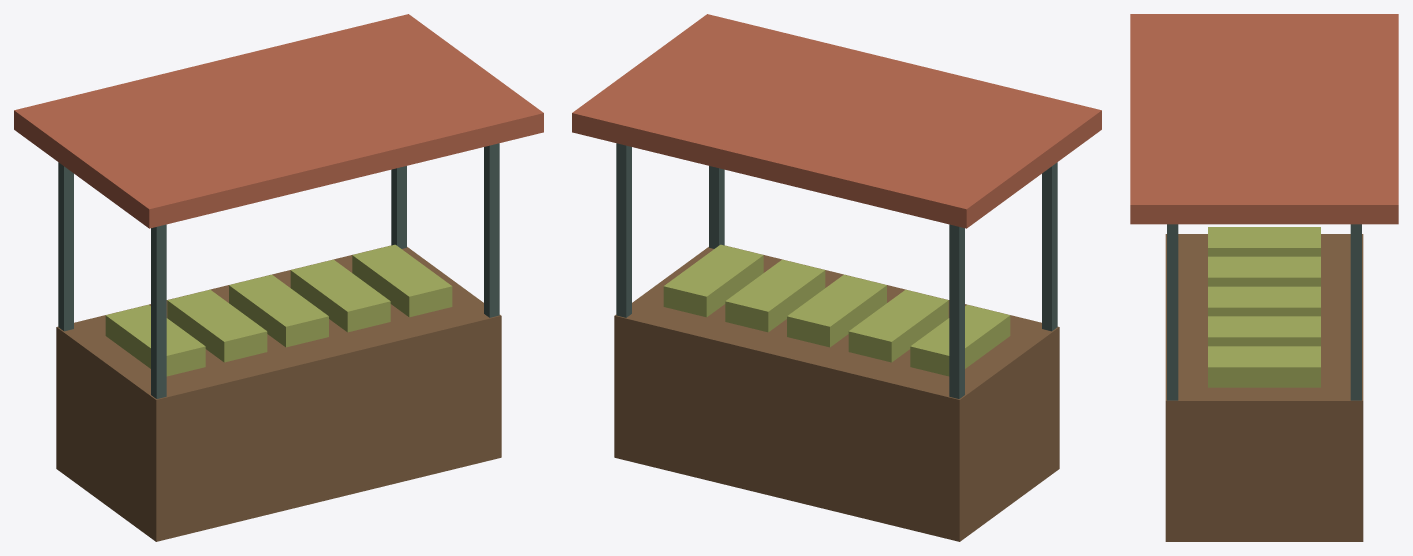
Rendered from stall_red.gltf.
3 views of the same model, side by side, from view 1: azimuth 30°, elevation 25°; view 2: azimuth 150°, elevation 25°; view 3: azimuth 270°, elevation 25° (orthographic).
Size of the model in its own units: 3.2 by 2.72 by 1.9.
